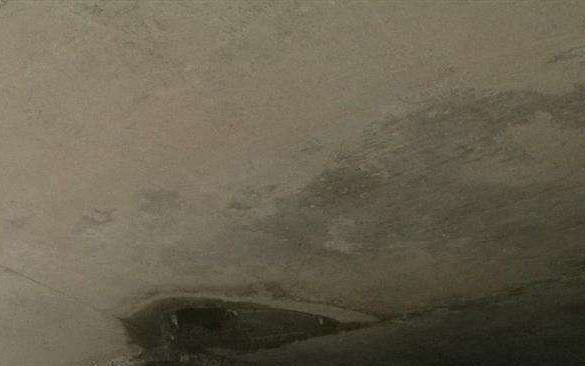Spalling: (116, 296, 341, 366)
